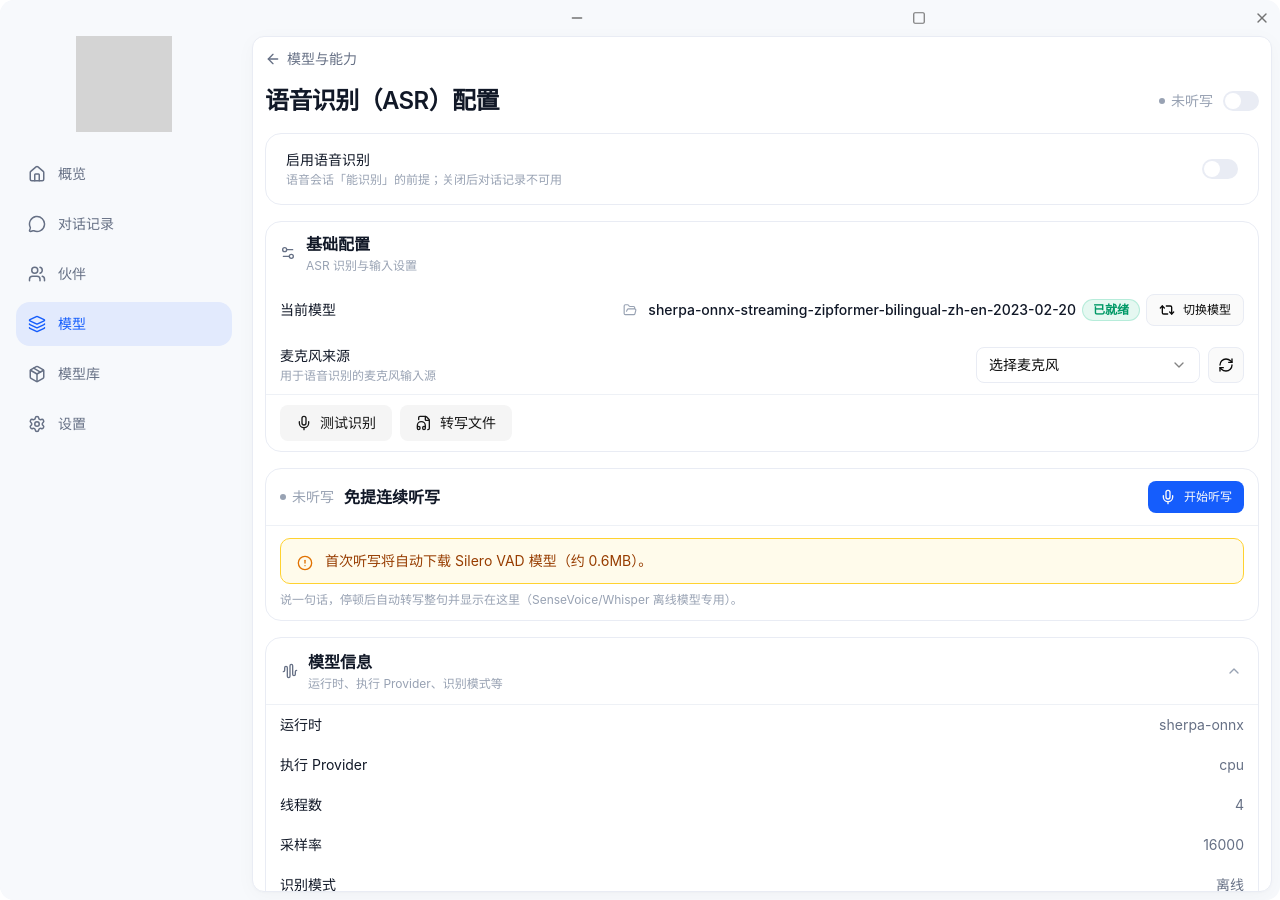
AsrPage（语音识别配置） › 离线模型测试识别：自动转写自带示例音频（wavPath=null）
The width and height of the screenshot is (1280, 900).
Expected: the heading "语音识别（ASR）配置" is shown, [265,85,499,117]
Click the button "测试识别": (336, 423) [280,405,392,441]
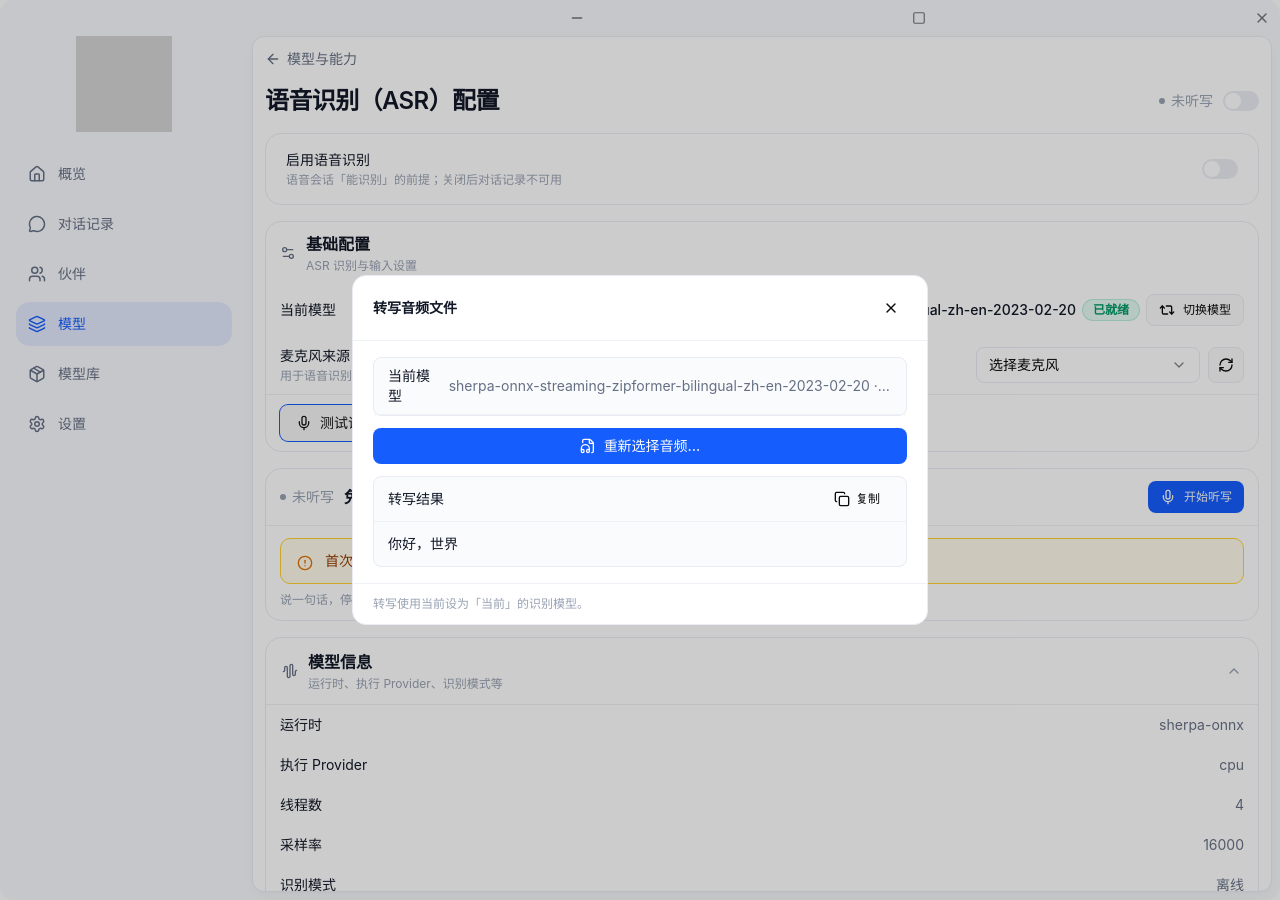
Expected: the heading "转写音频文件" is shown, [373,298,457,318]
Expected: the text "你好，世界" is shown, [388,535,458,552]
